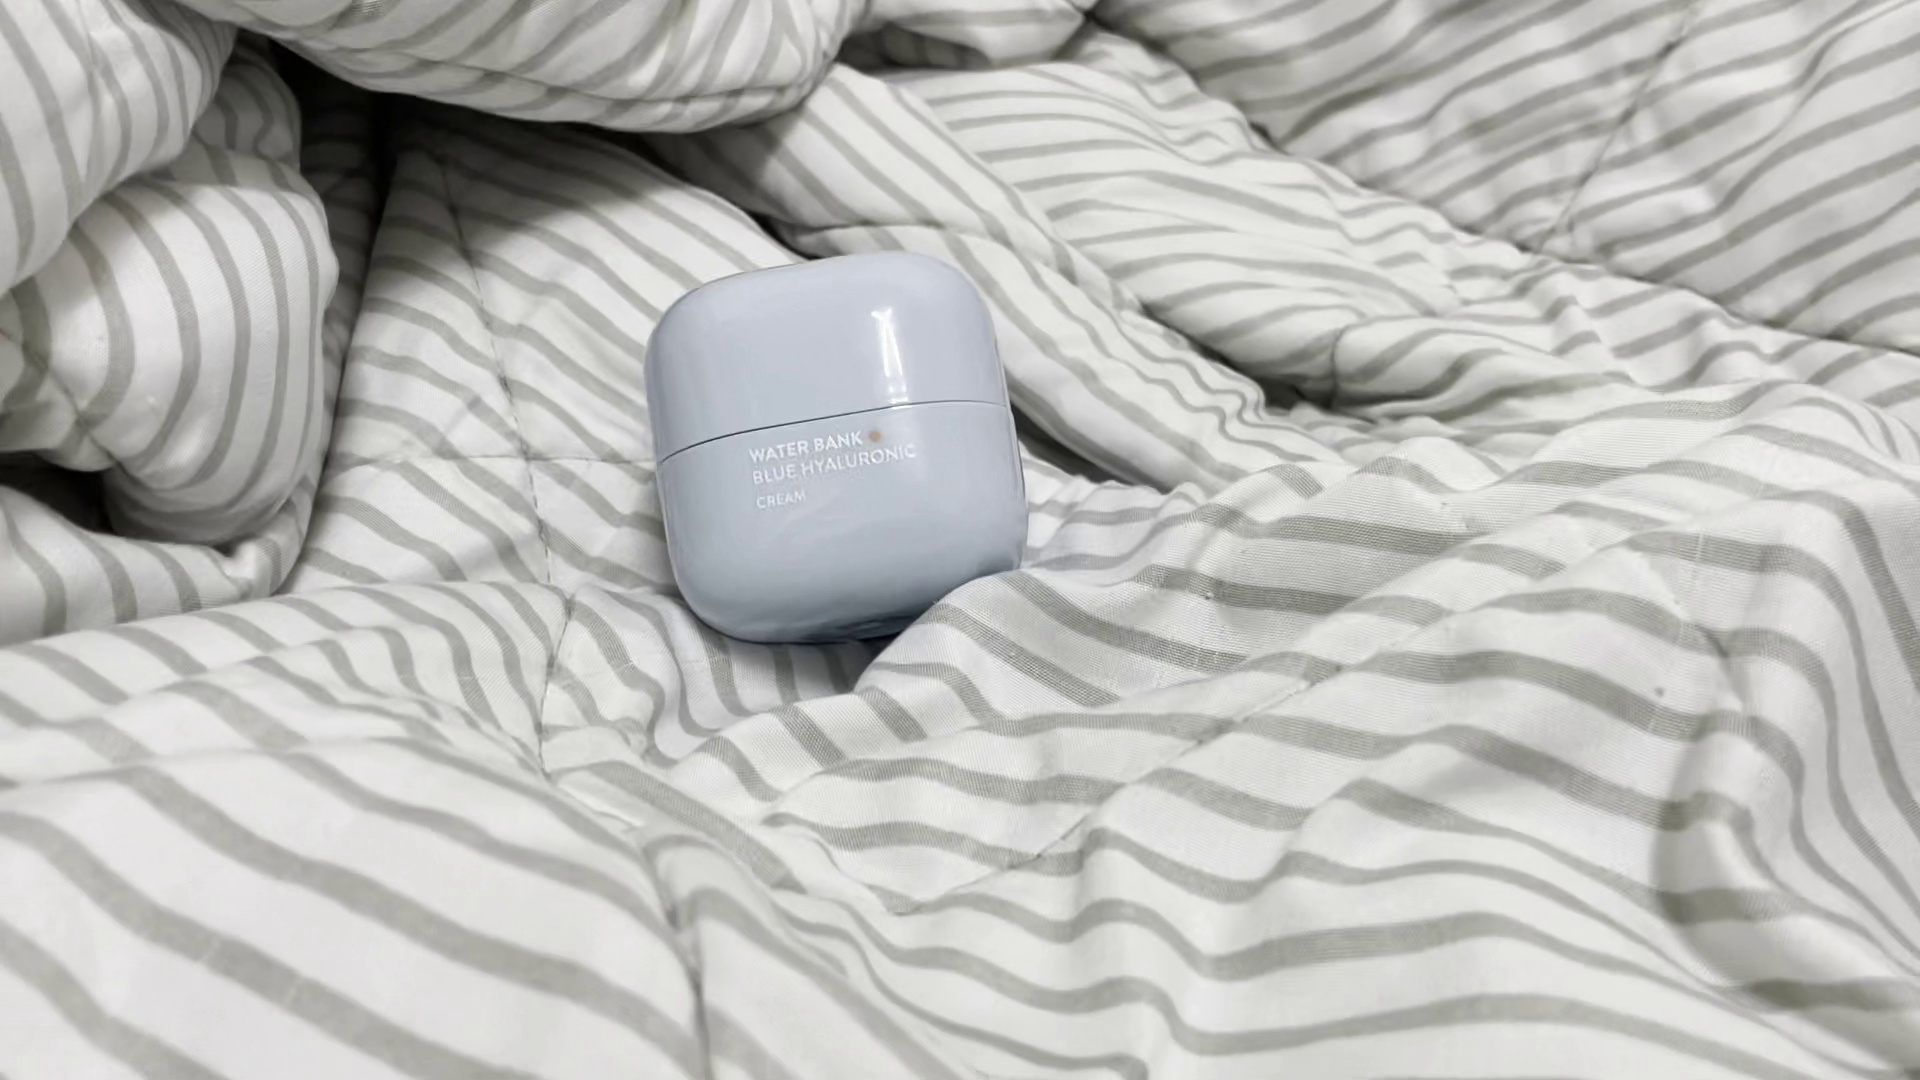cream: (647, 251, 1030, 640)
